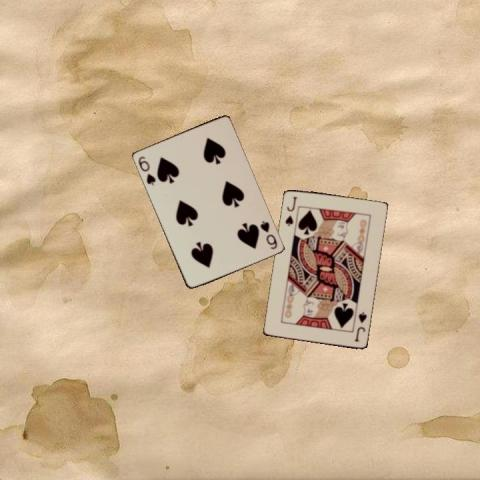6s: (134, 153, 156, 187), (256, 217, 278, 251)
Js: (351, 309, 369, 343), (282, 194, 299, 228)
